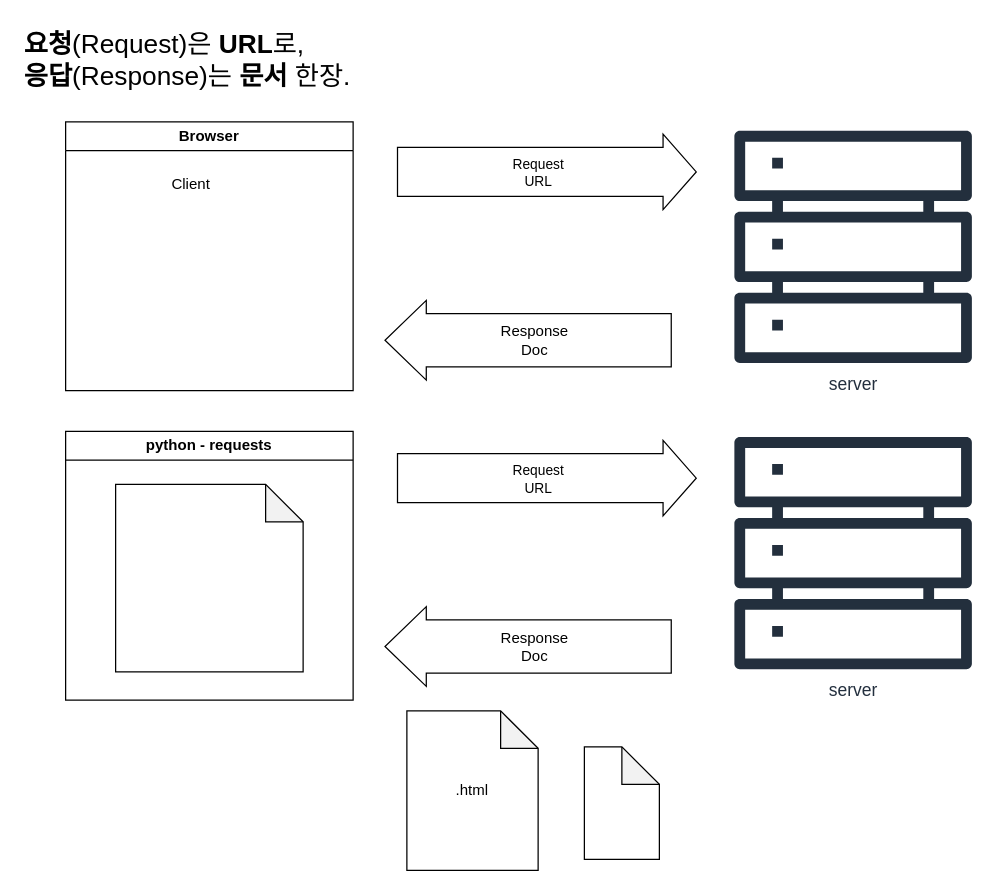
Some shapes in this 993 by 893 pixel diagram are drawn without their labels. The centre of each missing label's shape, as x and y in pixels:
"1. 구문 분석 (parse) 2. 원하는 데이터 추출 3. 추출한 데이터 print" goes at point 208,577.
"JSON" goes at point 621,802.
